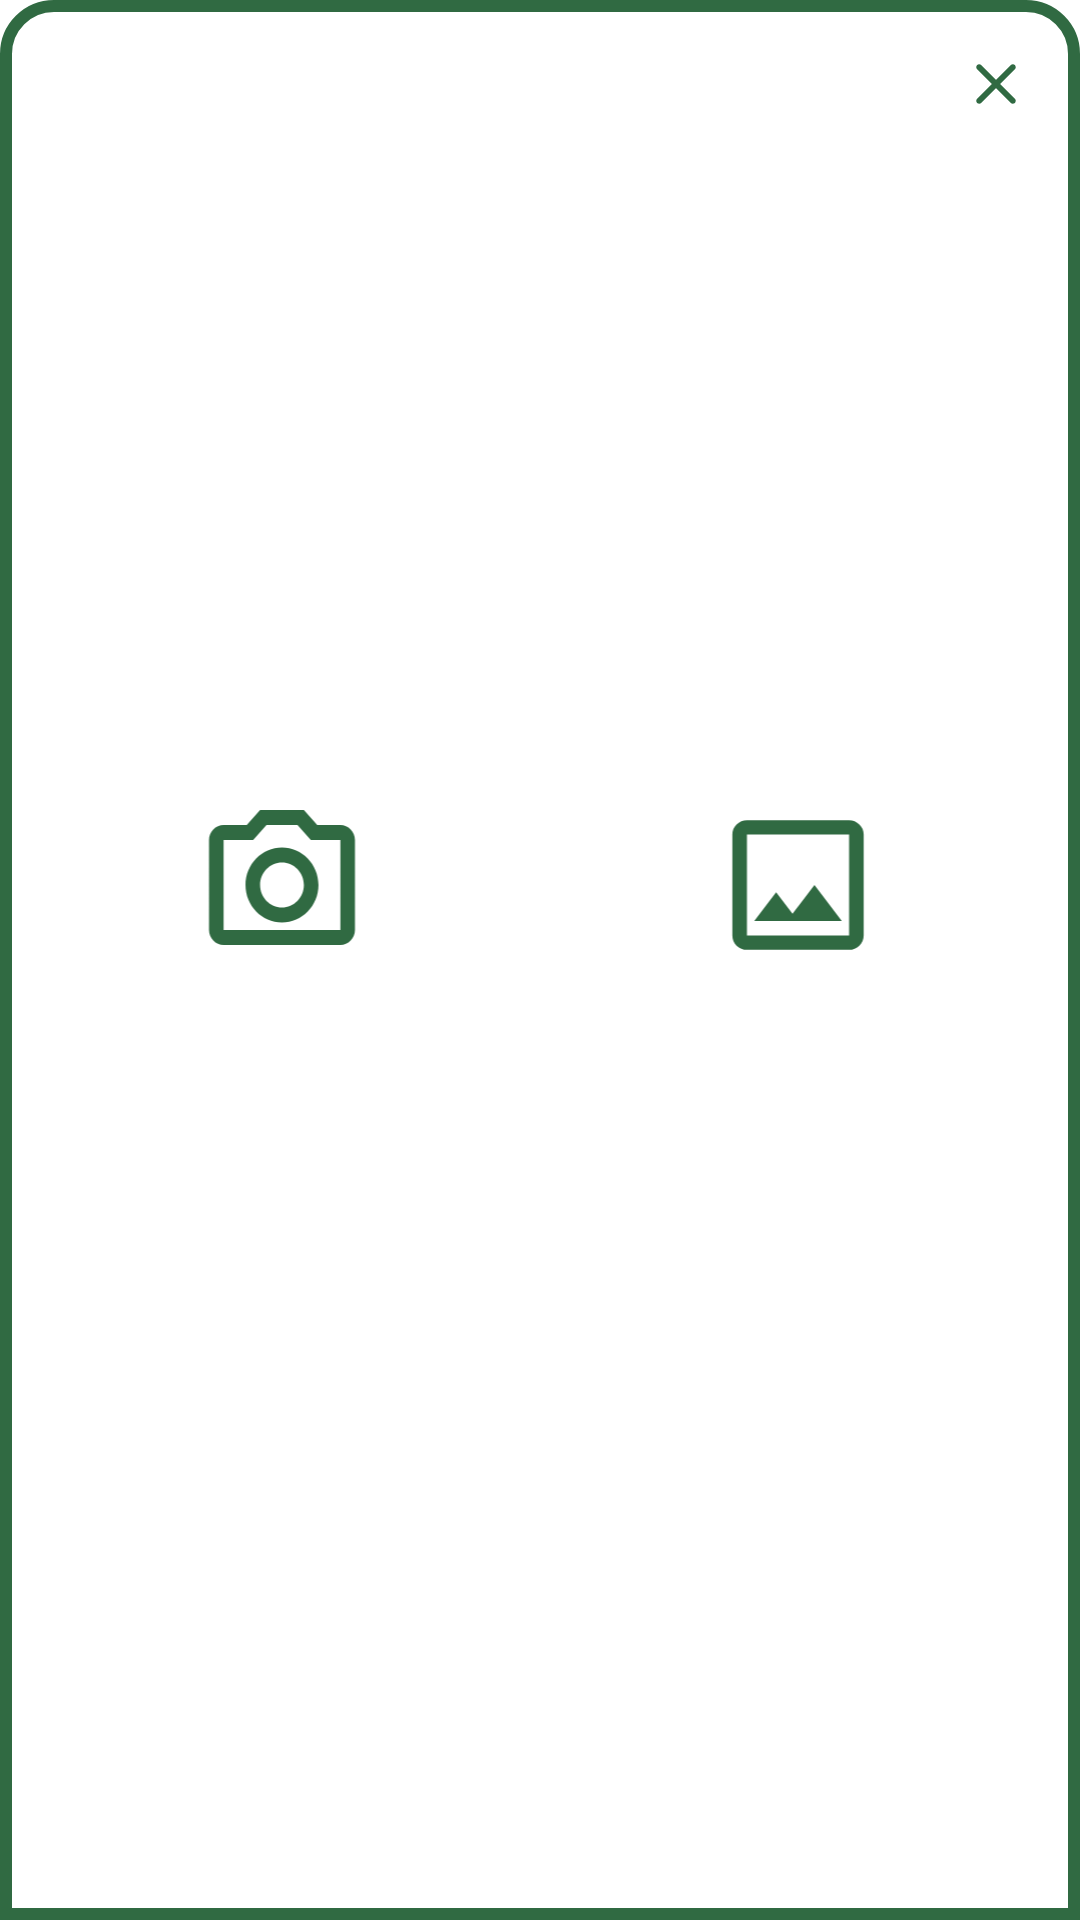

Screen size 1080x1920. Icon name, then its center in pixels as [x,y]:
camera: [282,877]
close: [996,84]
